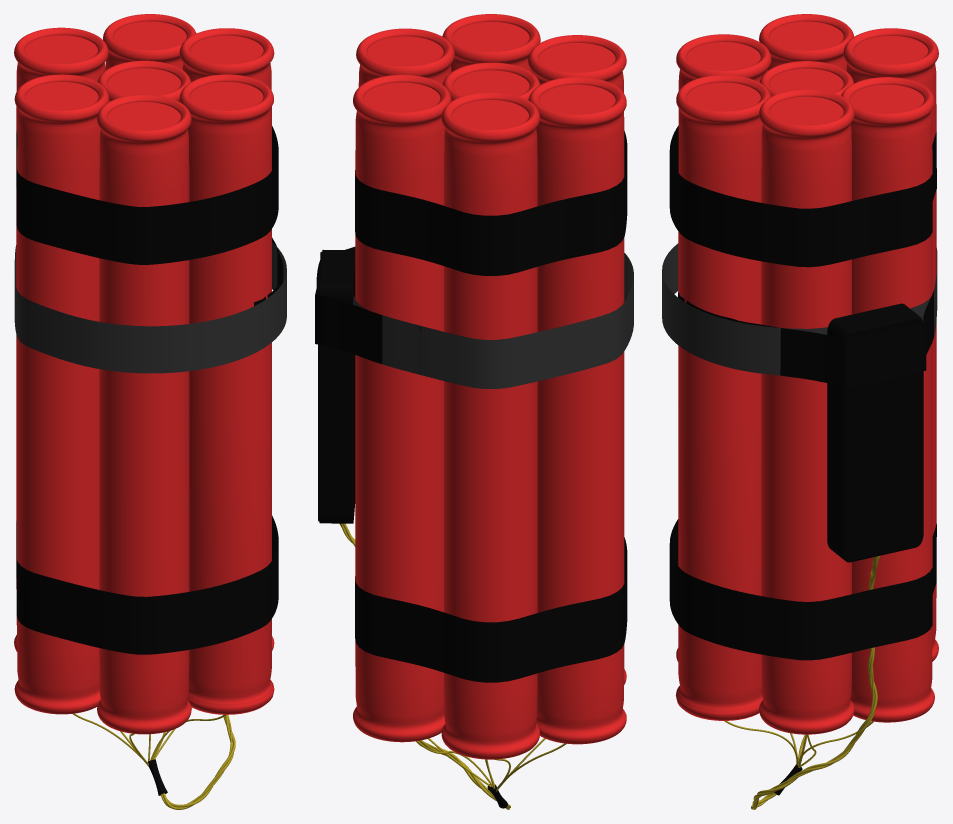
Rendered from TICKING+TIME+BOMB+V001.fbx.
3 renders of one model, left to right at view 1: azimuth 30°, elevation 25°; view 2: azimuth 150°, elevation 25°; view 3: azimuth 270°, elevation 25°, orthographic. The views are drawn at different scales.
Parts seen in each view (by area): view 1: dynamiet_6, dynamiet_4, dynamiet_7, dynamiet_8, tape_dynamiet_1, tape_dynamiet_2, tape_klok, dynamiet_2, dynamiet_3, dynamiet, dynamiet_5, main_draad_1; view 2: dynamiet_2, dynamiet, dynamiet_4, tape_dynamiet_1, tape_dynamiet_2, tape_klok, klok_1, dynamiet_3, dynamiet_8, dynamiet_6, tape_klok_2, dynamiet_5 (+1 smaller); view 3: dynamiet_3, dynamiet, dynamiet_7, dynamiet_8, klok_1, tape_dynamiet_1, tape_dynamiet_2, tape_klok_2, tape_klok, dynamiet_2, dynamiet_4, dynamiet_6 (+2 smaller).
Boxes of the visible parts, x1,y1,x2,y2 form: dynamiet_6: [97, 94, 191, 734]; dynamiet_4: [14, 74, 109, 714]; dynamiet_7: [188, 394, 274, 714]; dynamiet_8: [179, 74, 273, 704]; tape_dynamiet_1: [16, 126, 278, 264]; tape_dynamiet_2: [16, 515, 278, 654]; tape_klok: [14, 242, 286, 373]; dynamiet_2: [14, 27, 108, 651]; dynamiet_3: [179, 28, 274, 650]; dynamiet: [103, 14, 196, 69]; dynamiet_5: [97, 60, 191, 101]; main_draad_1: [161, 714, 235, 809]; dynamiet_2: [441, 92, 539, 759]; dynamiet: [353, 74, 451, 742]; dynamiet_4: [528, 77, 626, 744]; tape_dynamiet_1: [355, 131, 627, 275]; tape_dynamiet_2: [355, 537, 627, 682]; tape_klok: [353, 253, 633, 388]; klok_1: [318, 249, 355, 523]; dynamiet_3: [356, 28, 454, 87]; dynamiet_8: [442, 14, 540, 72]; dynamiet_6: [528, 35, 626, 684]; tape_klok_2: [315, 246, 421, 373]; dynamiet_5: [442, 62, 540, 100]; dynamiet_3: [759, 89, 854, 734]; dynamiet: [841, 77, 934, 722]; dynamiet_7: [676, 399, 762, 720]; dynamiet_8: [676, 75, 770, 710]; klok_1: [827, 303, 923, 562]; tape_dynamiet_1: [669, 125, 936, 267]; tape_dynamiet_2: [669, 519, 936, 660]; tape_klok_2: [678, 290, 933, 386]; tape_klok: [662, 243, 937, 375]; dynamiet_2: [843, 28, 938, 661]; dynamiet_4: [759, 14, 853, 70]; dynamiet_6: [676, 34, 771, 661].
Bounding box in the file's own units: 154 × 136 × 399.
